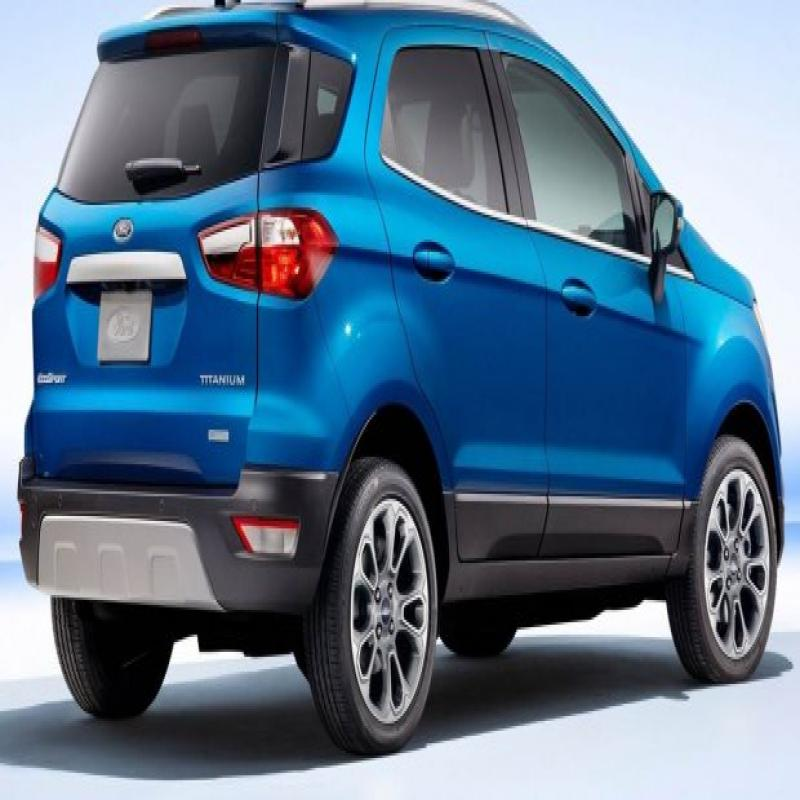car: (26, 15, 791, 752)
